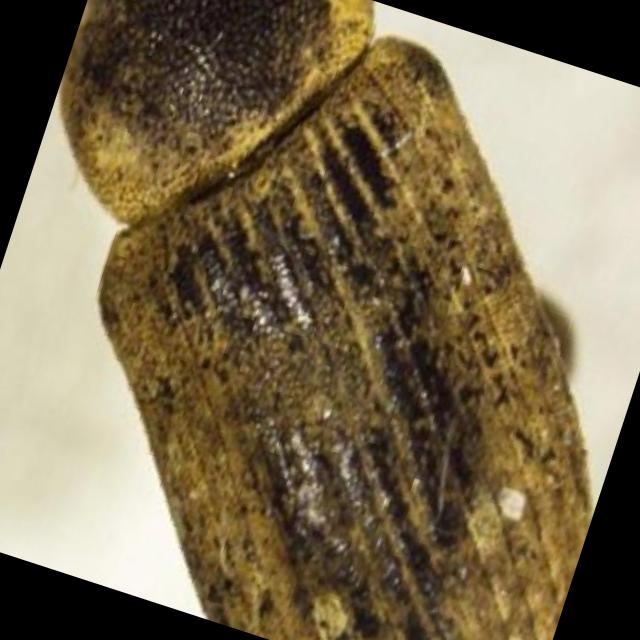rice-bug: (61, 0, 595, 640)
